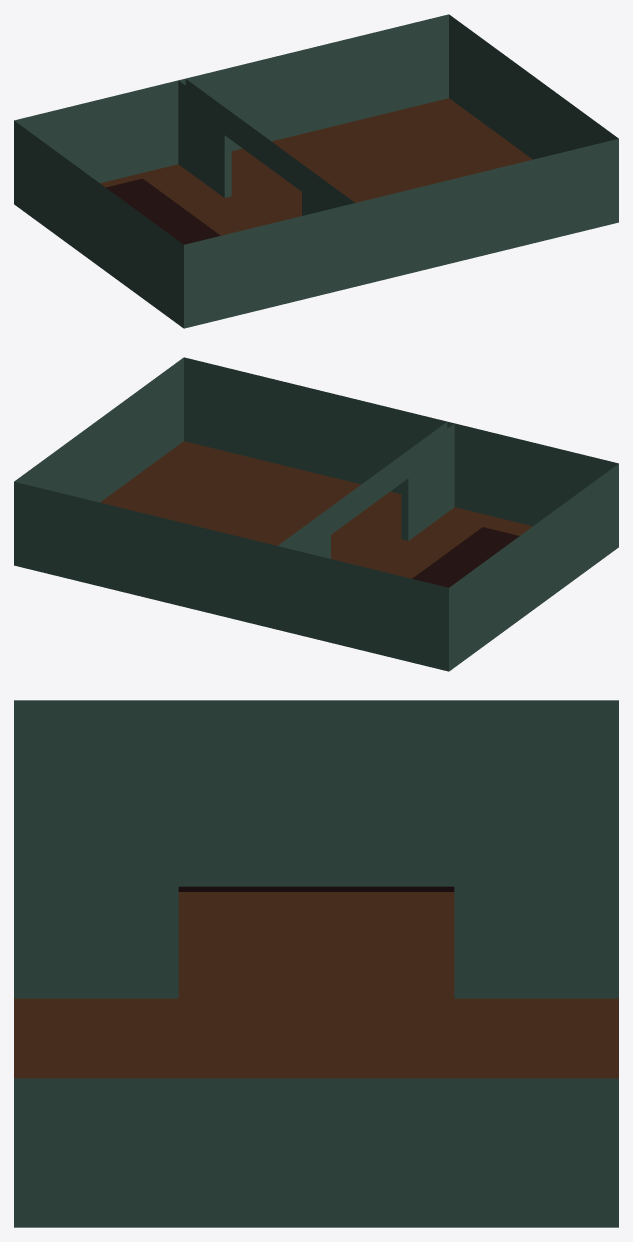
The model's file is geburtstags_raum.obj.
3 renders of one model, top to bottom at view 1: azimuth 30°, elevation 25°; view 2: azimuth 150°, elevation 25°; view 3: azimuth 270°, elevation 25°, orthographic. The views are drawn at different scales.
Parts seen in each view (by area): view 1: Room, Divider, Table; view 2: Room, Divider, Table; view 3: Room, Divider, Table.
Part boxes in pixels (x1=…): Room: x1=14, y1=14, x2=618, y2=328; Divider: x1=178, y1=79, x2=354, y2=215; Table: x1=106, y1=178, x2=220, y2=244; Room: x1=14, y1=357, x2=618, y2=671; Divider: x1=278, y1=422, x2=454, y2=558; Table: x1=412, y1=527, x2=519, y2=587; Room: x1=14, y1=700, x2=618, y2=1227; Divider: x1=14, y1=843, x2=618, y2=998; Table: x1=178, y1=886, x2=454, y2=891.
Bounding box in the file's own units: 21.72 × 4 × 14.69.
